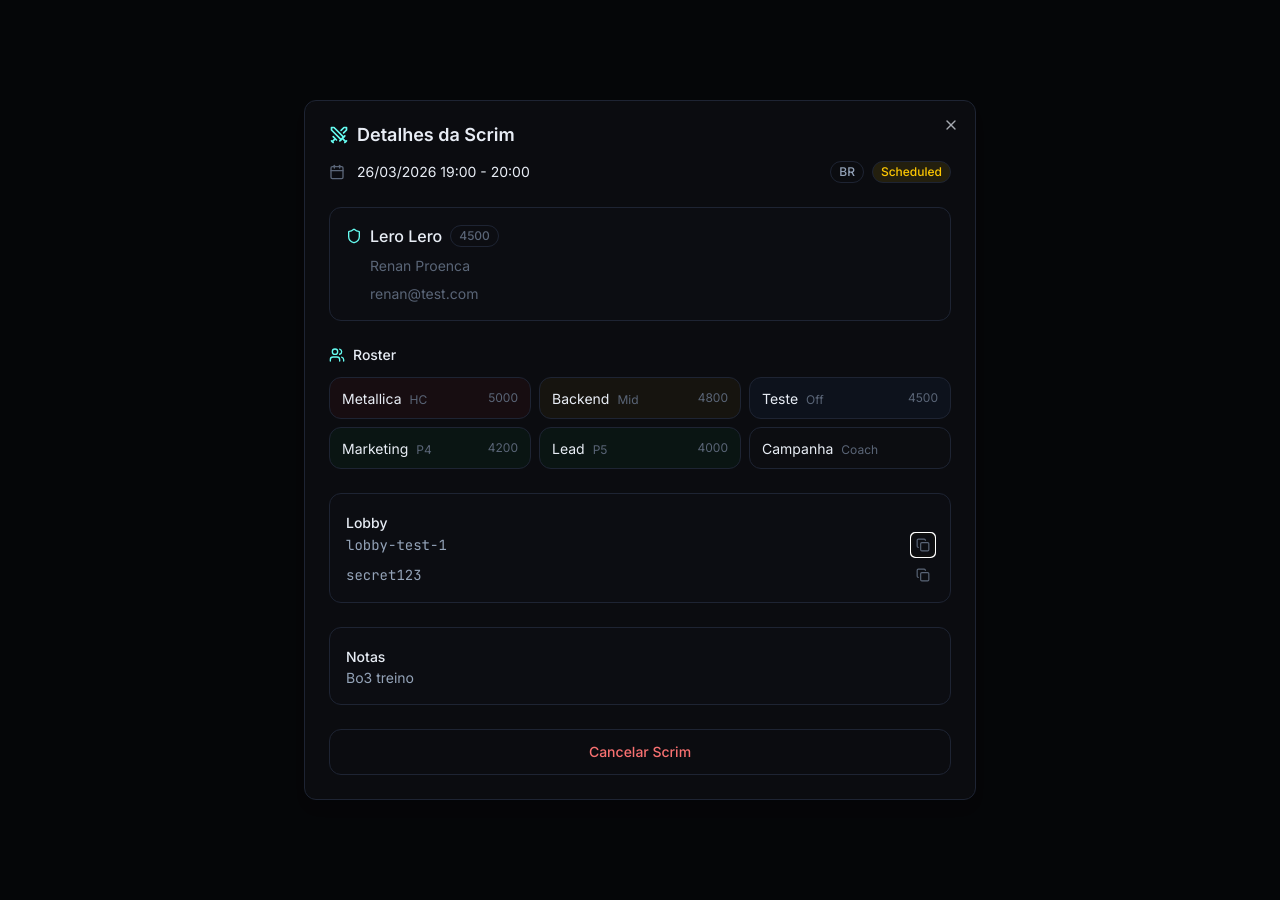
Test: ScrimDetails › cancel scheduled scrim › shows cancel form when cancel button is clicked
Click the button "Cancelar Scrim" at coordinates (640, 752), box x1=329 y1=729 x2=951 y2=775
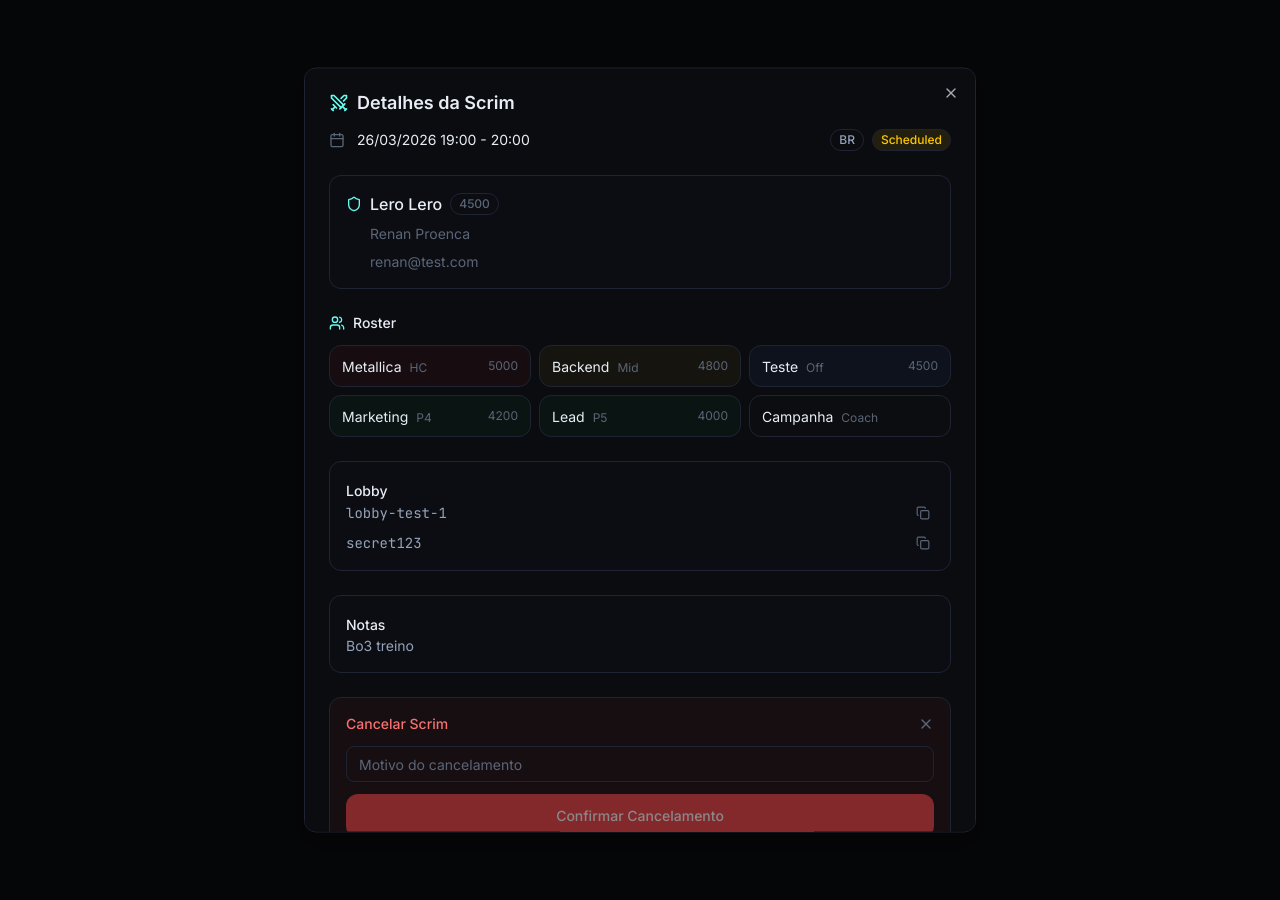
Result: the field with placeholder "Motivo do cancelamento" is shown at x1=346 y1=746 x2=934 y2=782
